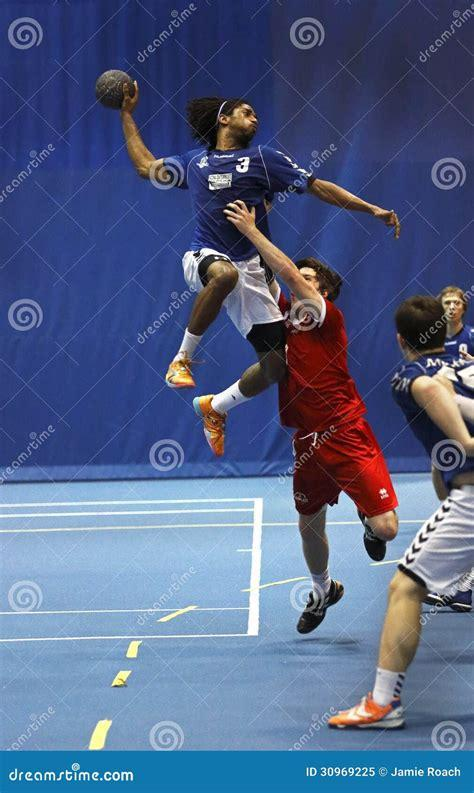ballon_handball: (96, 67, 137, 110)
